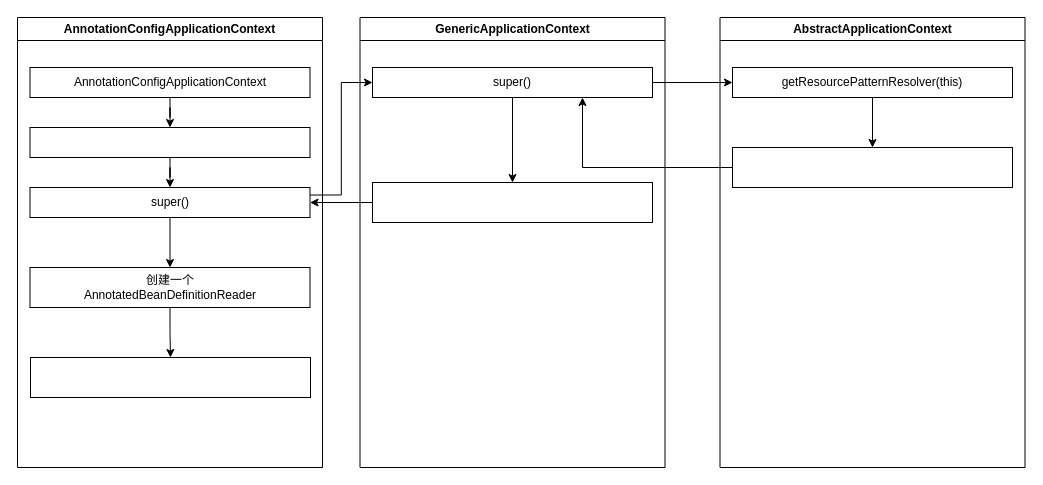
Some shapes in this 1043 by 485 pixel diagram are drawn without their labels. Here are the shapes that lost their labels. From the top down, the centre of each, then its label:
pixel 169 142: this()
pixel 872 167: 创建一个 PathMatchingResourcePatternResolver
pixel 512 202: 创建一个 DefaultListableBeanFactory
pixel 170 377: 创建一个 ClassPathBeanDefinitionScanner
